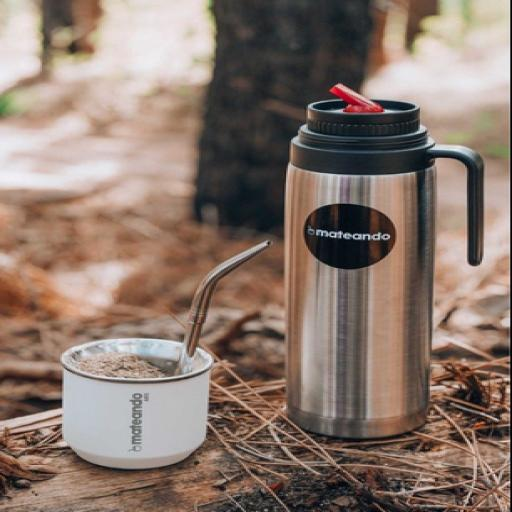mate: (77, 353, 172, 379)
termo: (287, 86, 435, 437)
